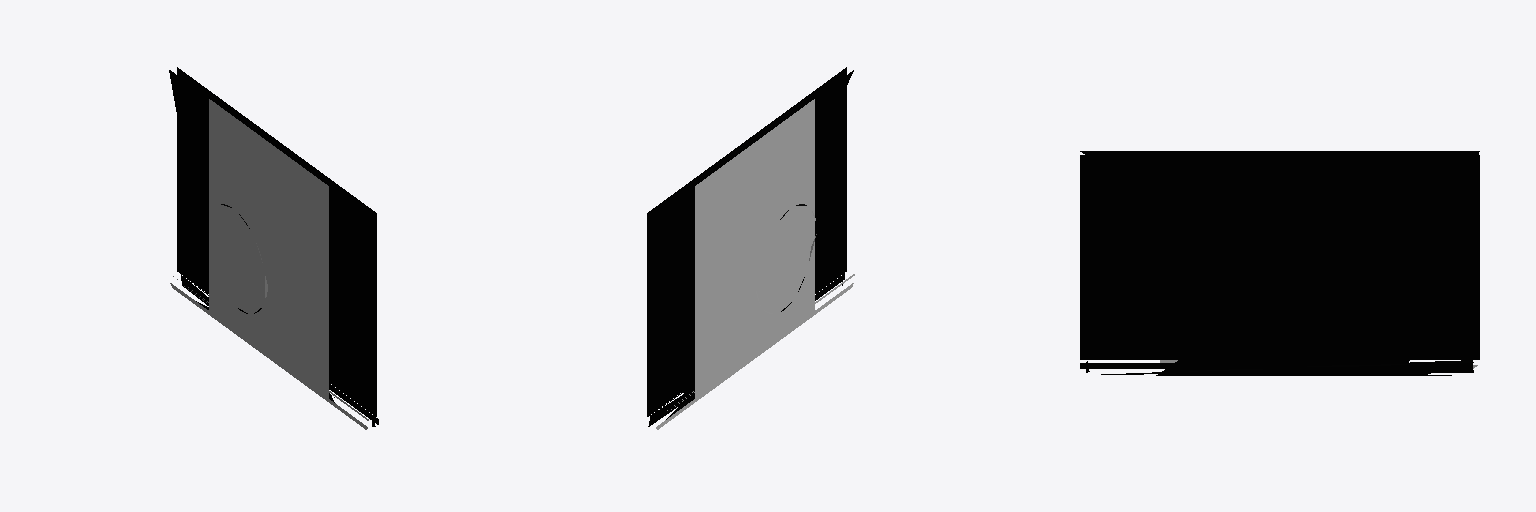
The model's file is Monitor.obj.
The picture shows the model from 3 angles: view 1: azimuth 30°, elevation 25°; view 2: azimuth 150°, elevation 25°; view 3: azimuth 270°, elevation 25°; orthographic projection.
Parts seen in each view (by area): view 1: Monitor_Plane; view 2: Monitor_Plane; view 3: Monitor_Plane.
Boxes of the visible parts, box(x1,y1,x2,y2) form: Monitor_Plane: box(169, 67, 378, 429); Monitor_Plane: box(647, 67, 854, 429); Monitor_Plane: box(1080, 151, 1479, 375).
Size of the model in its own units: 0.6542 by 3.03 by 4.95.